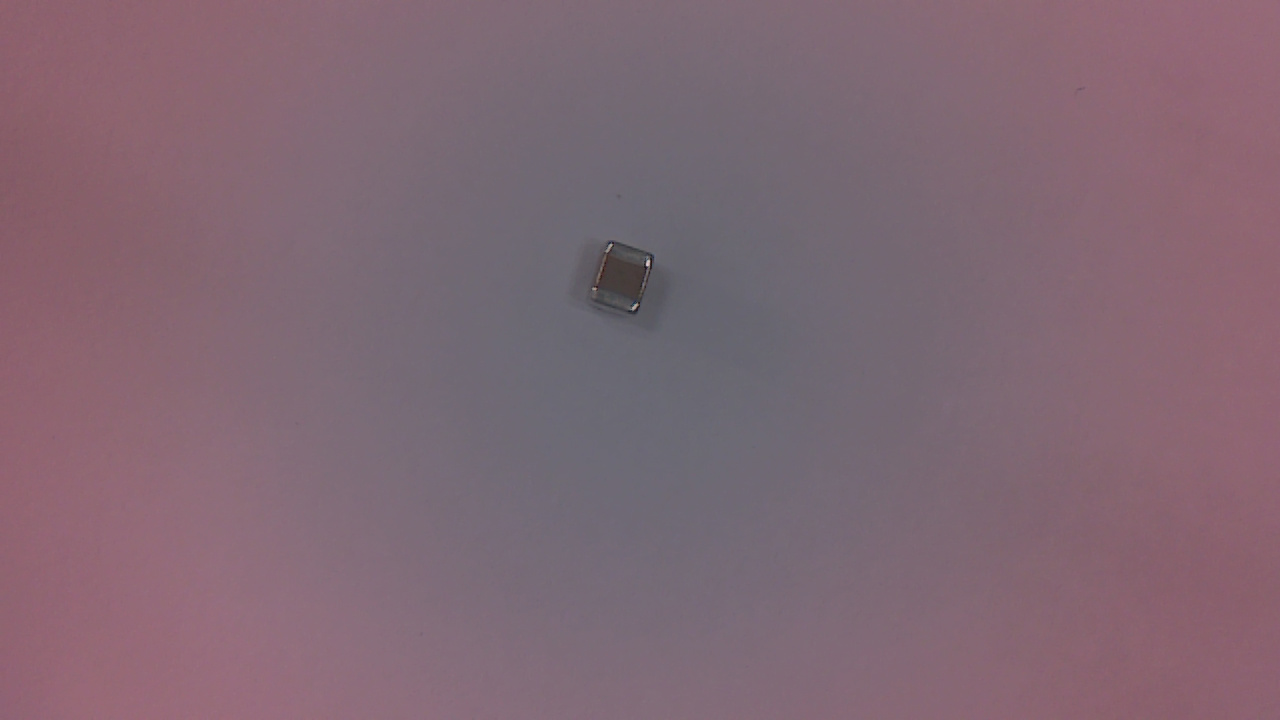Condensator: (591, 246, 659, 324)
